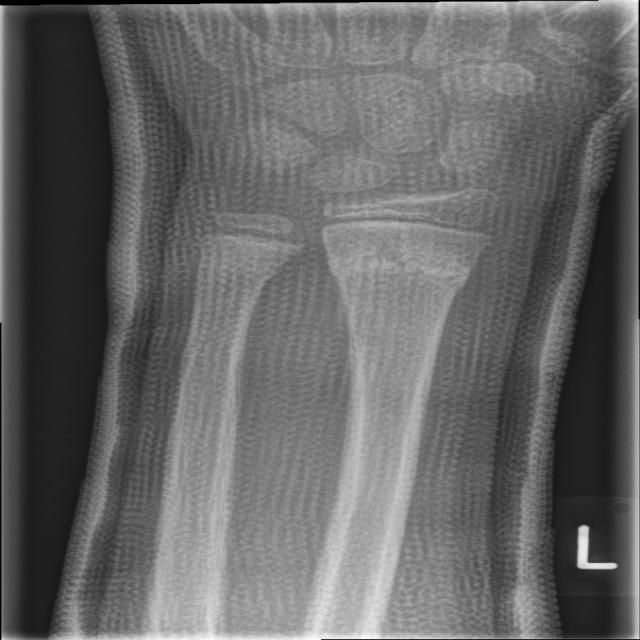radius fracture: (317, 228, 493, 352)
